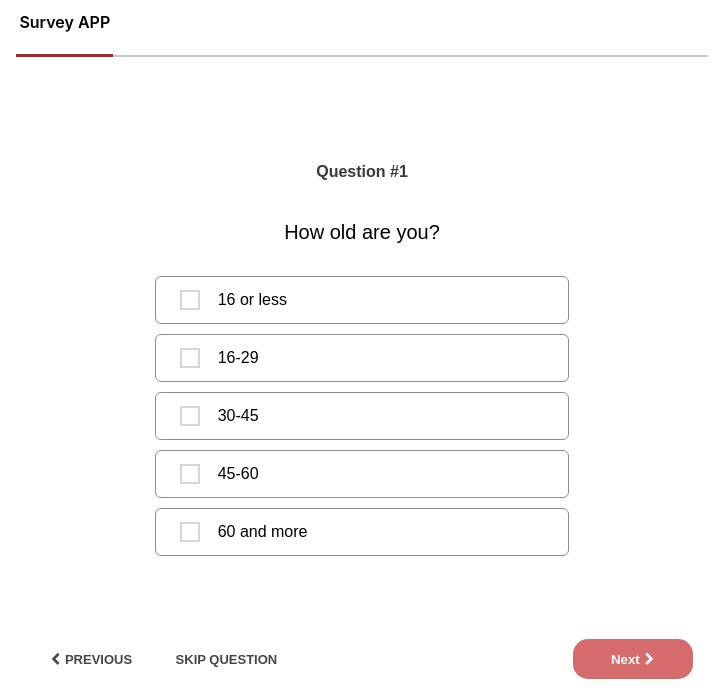
Scenario: Should move to the next question after an option is selected and next Button is clicked
Click the checkbox labelled "16-29" at (190, 358), box 180,348 -> 200,368
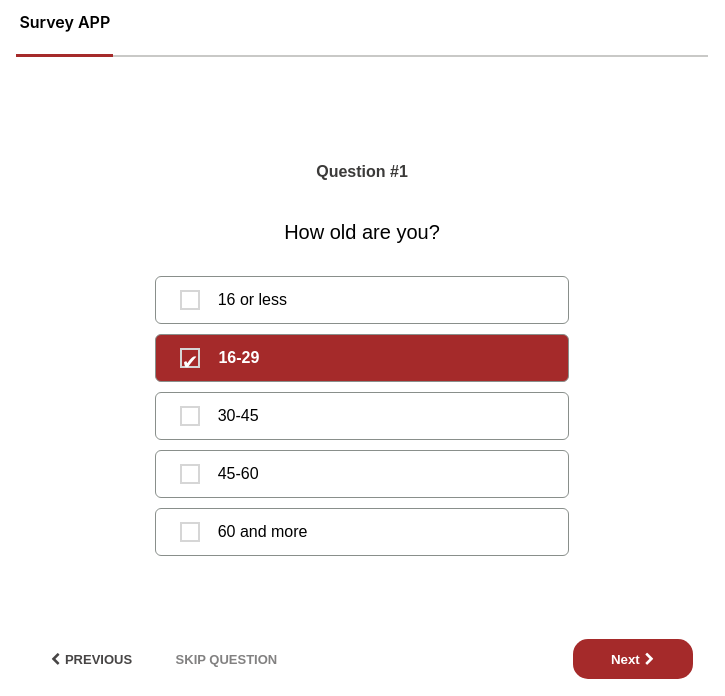
Click the button "Next" at (633, 659), box 573,639 -> 693,679
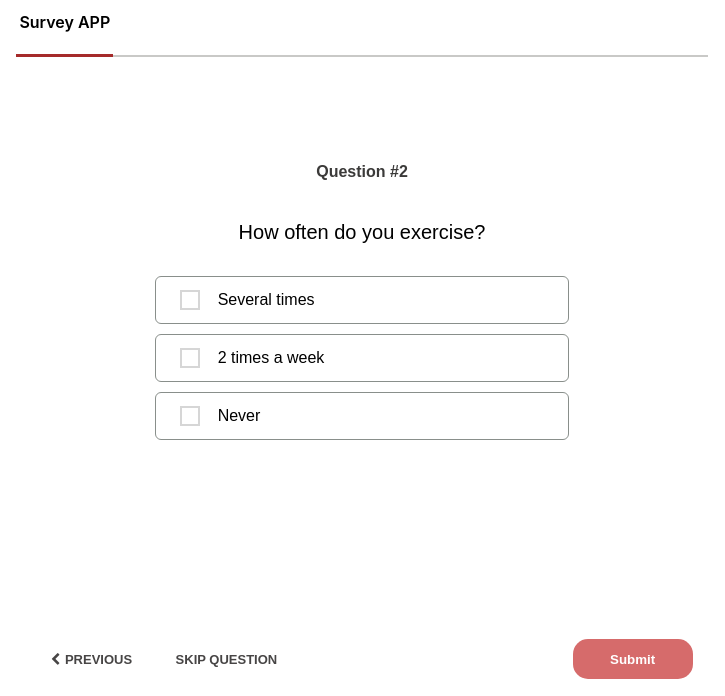
Expected: the text "How often do you exercise?" is shown, 239,221 -> 485,244
